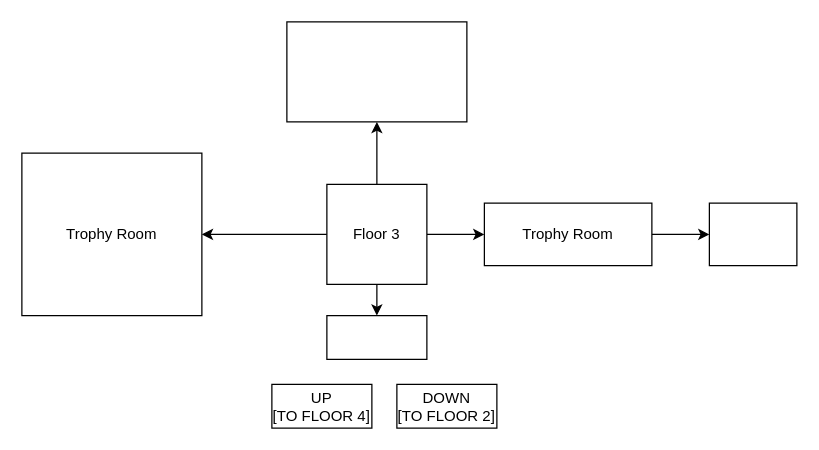
This 819x450 diagram has some shape labels left out. The shapes that lost their labels are listed below. From the top down, each one's centre as x and y in pixels, then its label:
At point 376,71: "Defense Against Dark Arts Classroom".
At point 752,234: "Astronomy Tower".
At point 376,336: "F3 Staircases".
